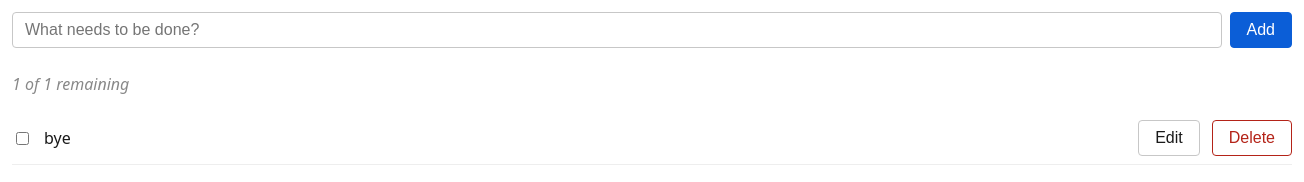
it: TodoList › deletes a todo
Click the button "Delete".
click(1252, 138)  # box [1212,120,1292,156]
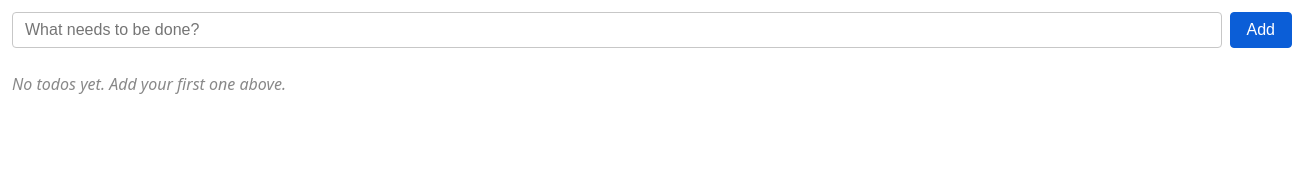
Expected: the text "bye" is gone
